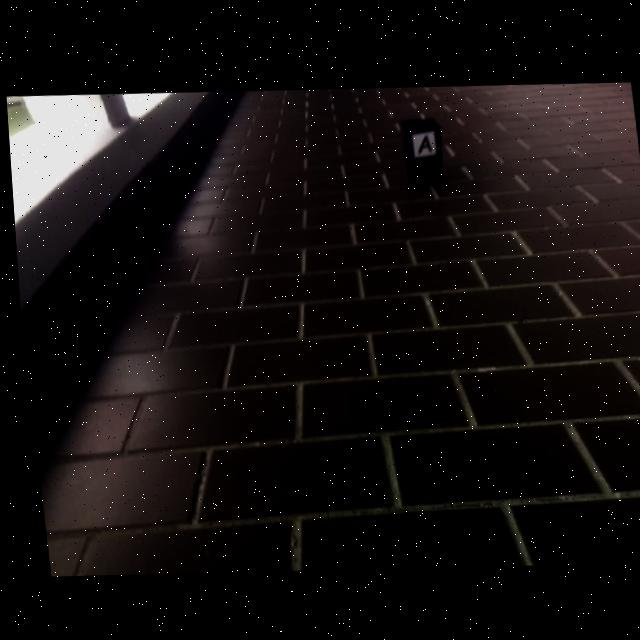A: (416, 132, 431, 151)
